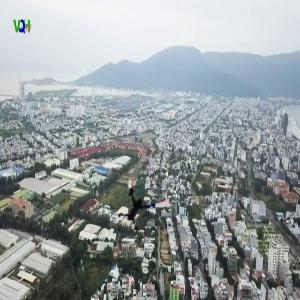drone: (112, 178, 167, 233)
